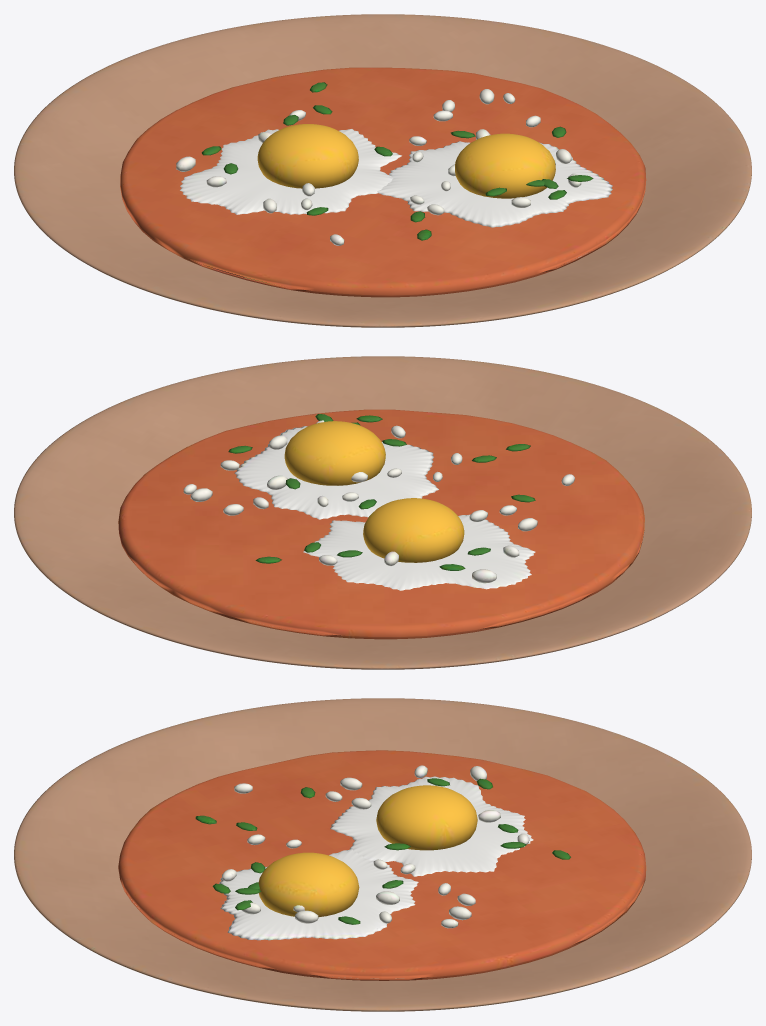
Rendered from huevos-rancheros.glb.
3 renders of one model, top to bottom at view 1: azimuth 30°, elevation 25°; view 2: azimuth 150°, elevation 25°; view 3: azimuth 270°, elevation 25°, orthographic.
Parts seen in each view (by area): view 1: huevos-rancheros; view 2: huevos-rancheros; view 3: huevos-rancheros.
Boxes of the visible parts, <box> form: huevos-rancheros: <box>14,14,751,327</box>; huevos-rancheros: <box>14,356,751,669</box>; huevos-rancheros: <box>14,698,751,1011</box>.
Size of the model in its own units: 0.2834 by 0.0266 by 0.2834.
Materials: 1 (1 with a texture image).
